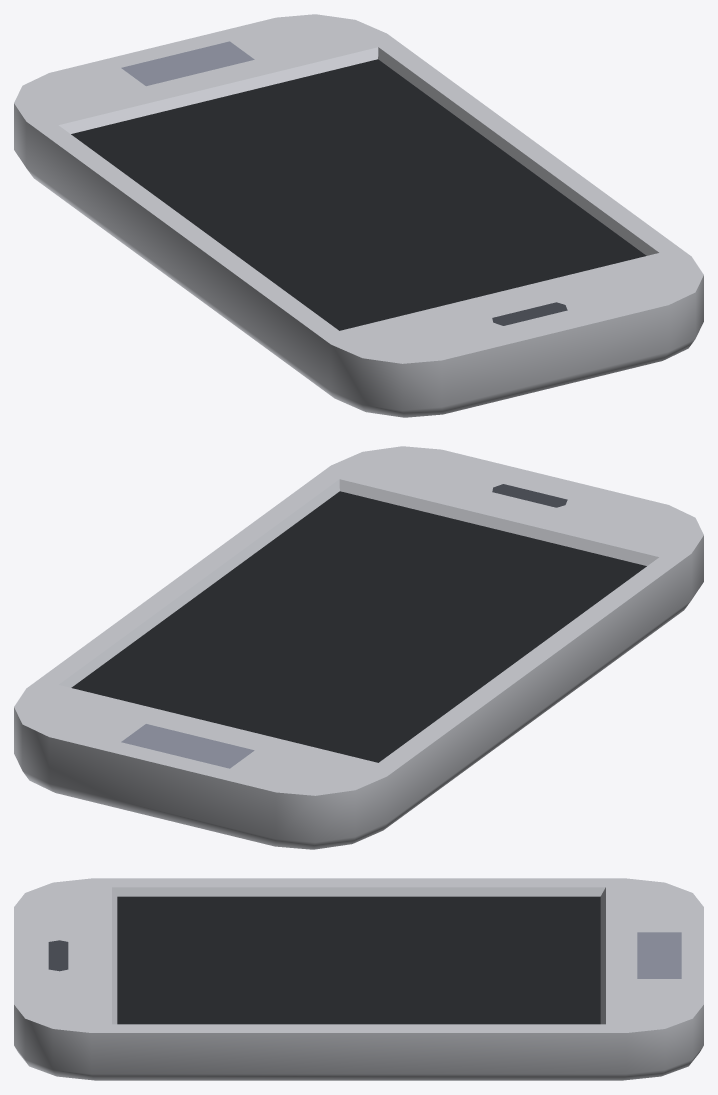
The model's file is NF_Phone_01.fbx.
3 views of the same model, one above another, from view 1: azimuth 30°, elevation 25°; view 2: azimuth 150°, elevation 25°; view 3: azimuth 270°, elevation 25° (orthographic). The views are drawn at different scales.
Visible parts, largest first — view 1: NF_Phone_01; view 2: NF_Phone_01; view 3: NF_Phone_01.
Part boxes in pixels (x1,y1,x2,y2): NF_Phone_01: (14, 14, 703, 417); NF_Phone_01: (14, 446, 703, 849); NF_Phone_01: (14, 878, 703, 1080).
Bounding box in the file's own units: 0.1025 × 0.0171 × 0.1932.
